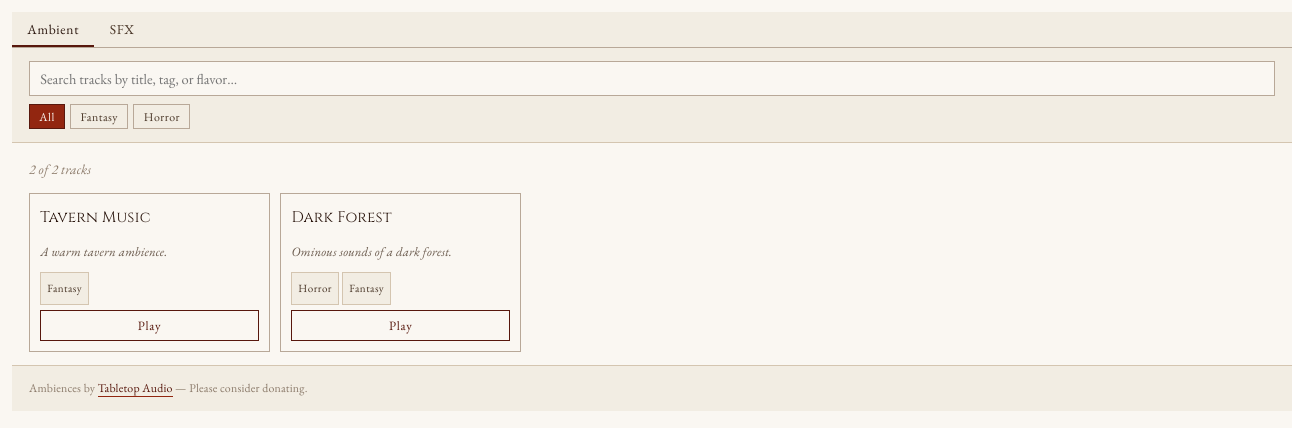
Test: Soundboard › clicking All clears the genre filter
Check: the text "Tavern Music" is shown, box [40,207,151,228]
Click the button "Horror": {"x": 162, "y": 116} [133,104,190,129]
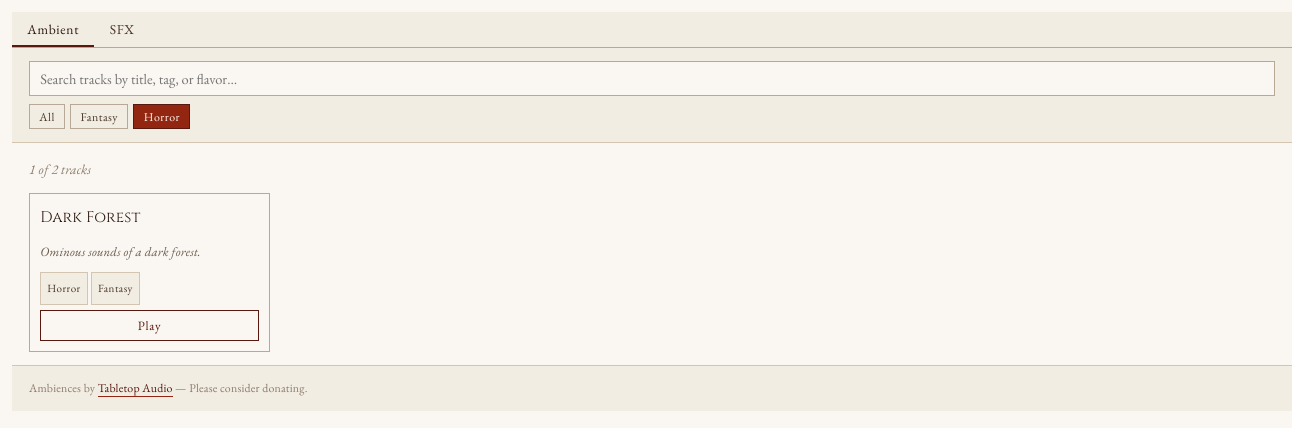
Click the button "All": {"x": 47, "y": 116} [29,104,65,129]
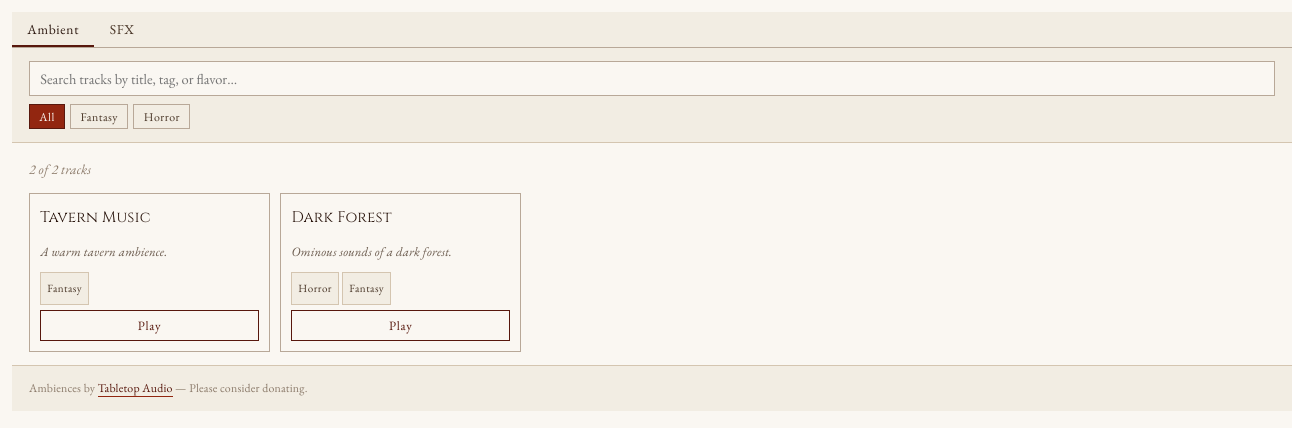
Check: the text "Dark Forest" is shown, box [291,207,392,228]
Check: the text "Tavern Music" is shown, box [40,207,151,228]
